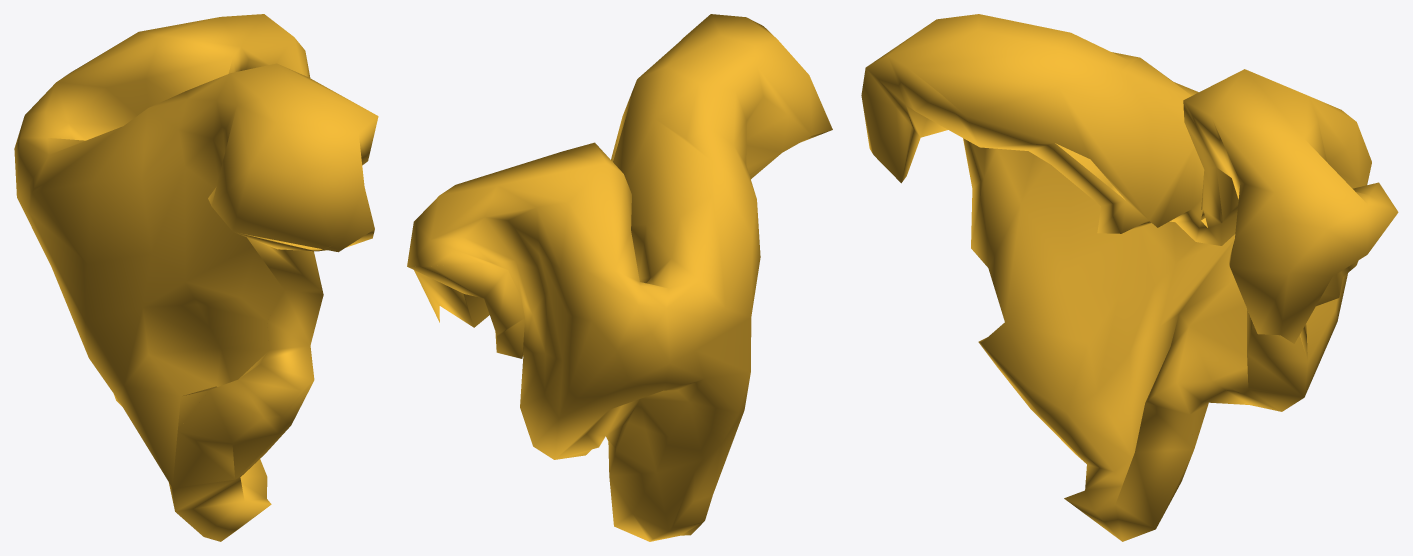
Rendered from nervoso-paracentral-gyrus-and-sulcus-l.glb.
The picture shows the model from 3 angles, left to right: view 1: azimuth 30°, elevation 25°; view 2: azimuth 150°, elevation 25°; view 3: azimuth 270°, elevation 25°; orthographic projection. The views are drawn at different scales.
Visible parts, largest first — view 1: Paracentral gyrus and sulcus*.l; view 2: Paracentral gyrus and sulcus*.l; view 3: Paracentral gyrus and sulcus*.l.
Boxes of the visible parts, x1=… form: Paracentral gyrus and sulcus*.l: x1=14, y1=14, x2=378, y2=541; Paracentral gyrus and sulcus*.l: x1=407, y1=14, x2=832, y2=541; Paracentral gyrus and sulcus*.l: x1=861, y1=14, x2=1398, y2=541.
Size of the model in its own units: 0.0239 by 0.0376 by 0.0359.
